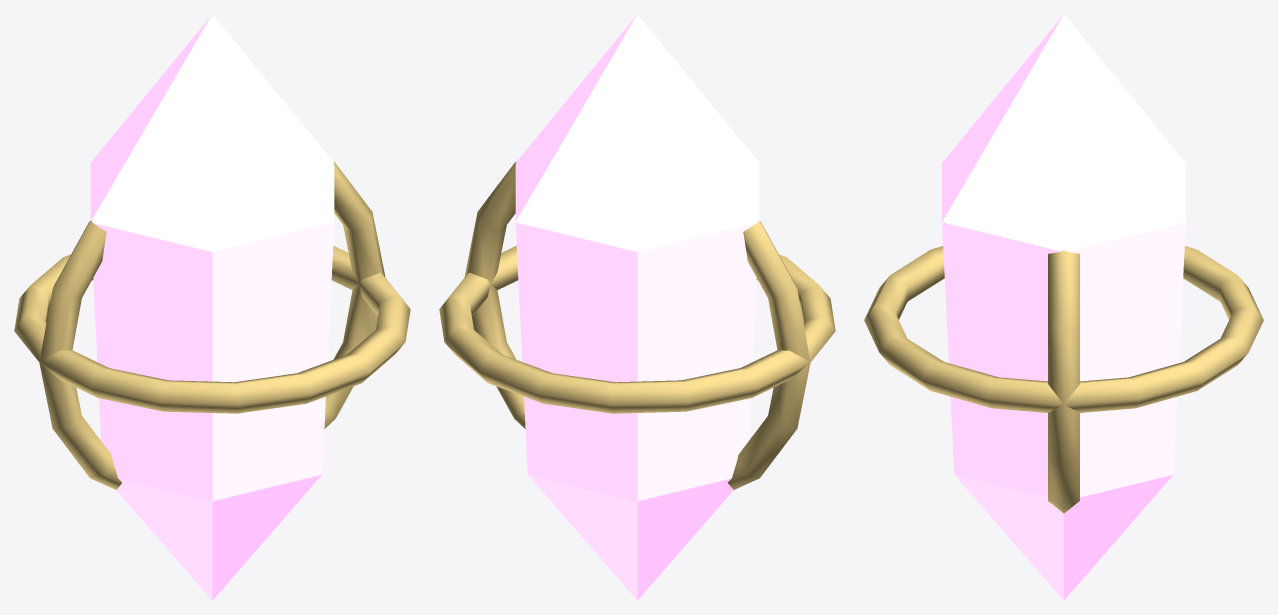
File: item_crystal.glb
3 renders of one model, left to right at view 1: azimuth 30°, elevation 25°; view 2: azimuth 150°, elevation 25°; view 3: azimuth 270°, elevation 25°, orthographic.
Parts seen in each view (by area): view 1: crystal; view 2: crystal; view 3: crystal.
Boxes of the visible parts, bbox=[...] form: crystal: bbox=[14, 14, 410, 600]; crystal: bbox=[439, 14, 835, 600]; crystal: bbox=[864, 14, 1263, 600].
Size of the model in its own units: 0.284 by 0.46 by 0.284.
